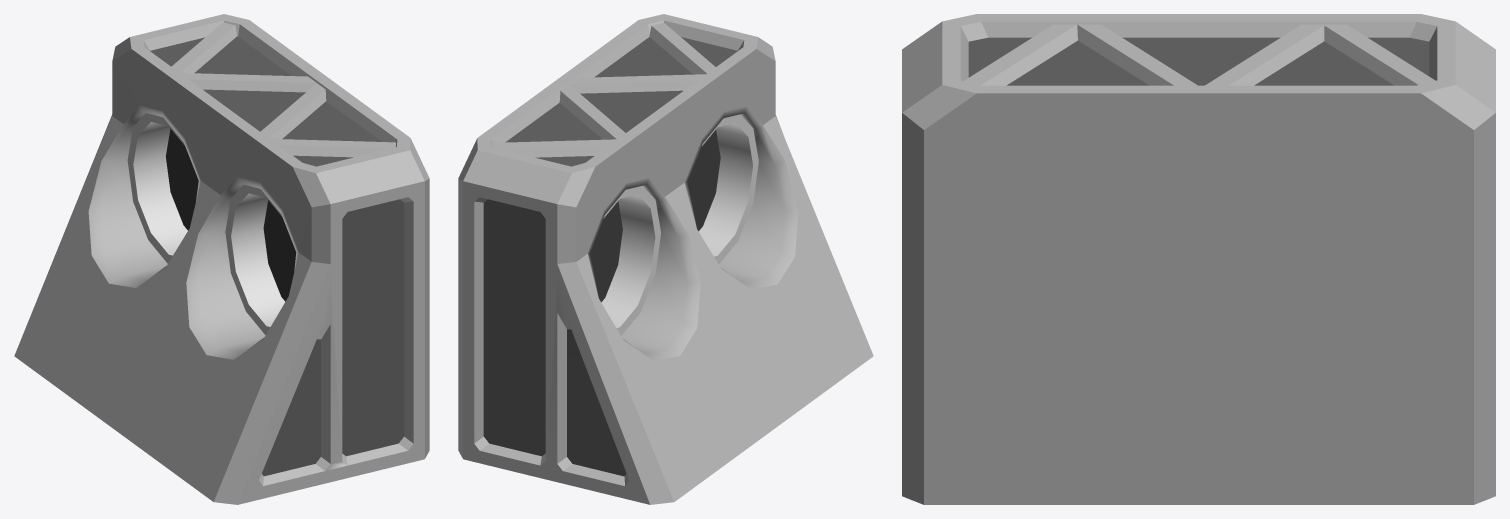
Rendered from pipe_012.fbx.
3 renders of one model, left to right at view 1: azimuth 30°, elevation 25°; view 2: azimuth 150°, elevation 25°; view 3: azimuth 270°, elevation 25°, orthographic. The views are drawn at different scales.
Parts seen in each view (by area): view 1: pipe_012; view 2: pipe_012; view 3: pipe_012.
Part boxes in pixels (x1,y1,x2,y2): pipe_012: (14, 14, 429, 504); pipe_012: (458, 14, 873, 504); pipe_012: (902, 14, 1495, 504).
Bounding box in the file's own units: 374 × 645 × 493.
